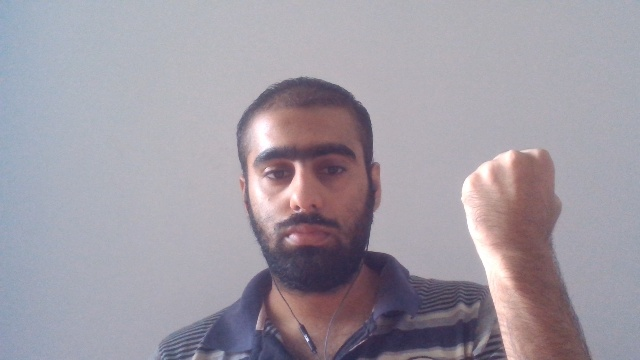rock: (460, 147, 563, 263)
